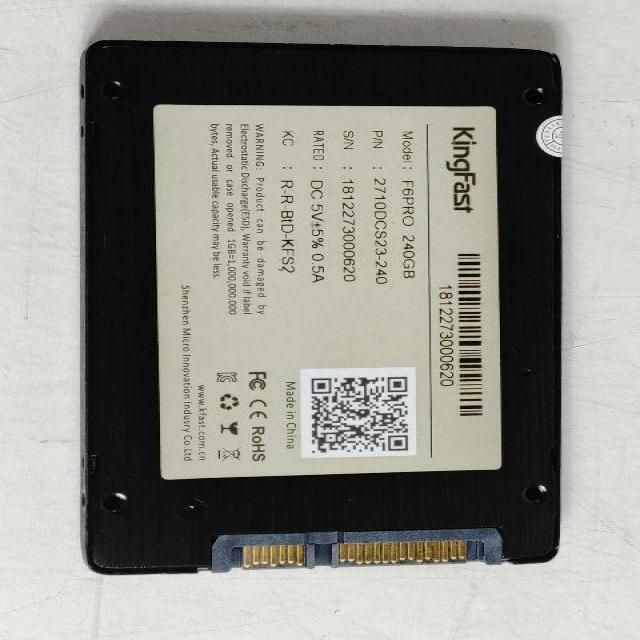DISK: (75, 38, 565, 577)
